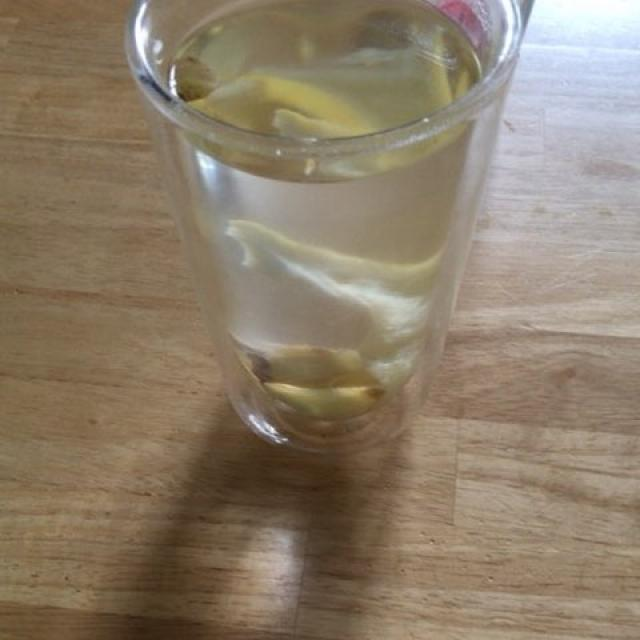lemon: (195, 79, 371, 132)
tea: (154, 3, 487, 423)
